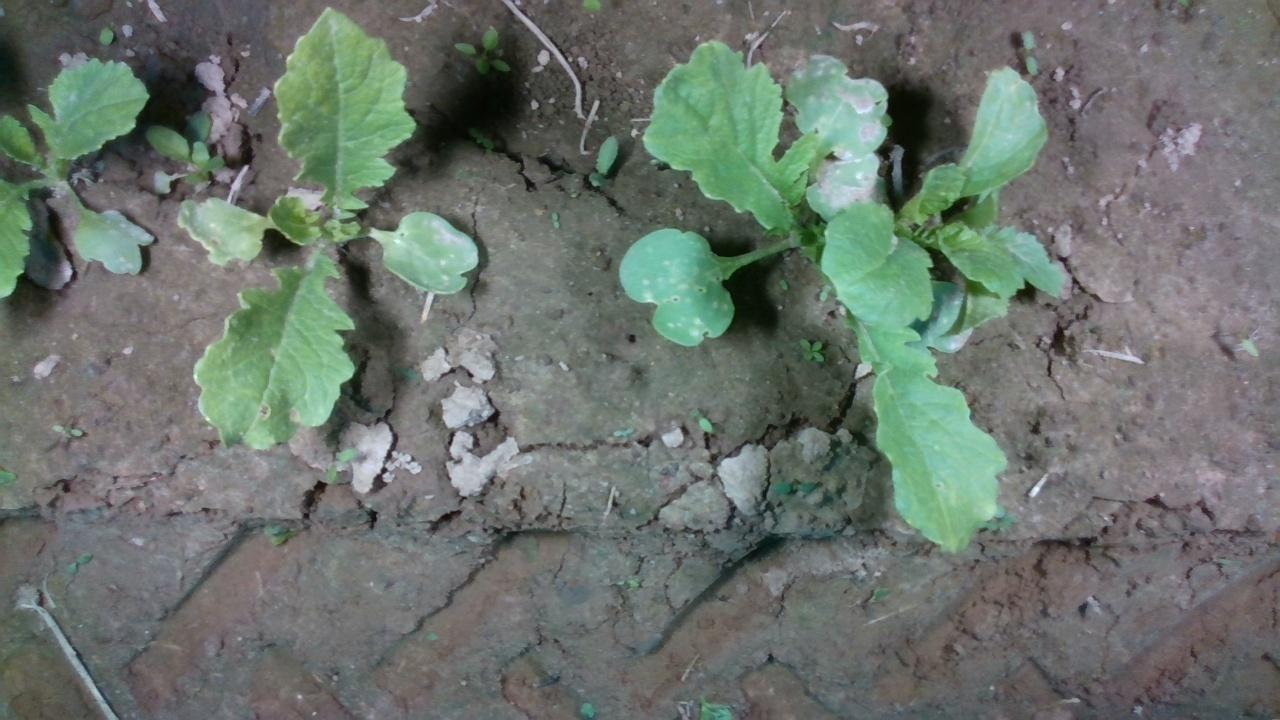weed: (1019, 26, 1040, 77), (797, 336, 824, 364), (818, 282, 830, 300), (550, 210, 559, 230)
